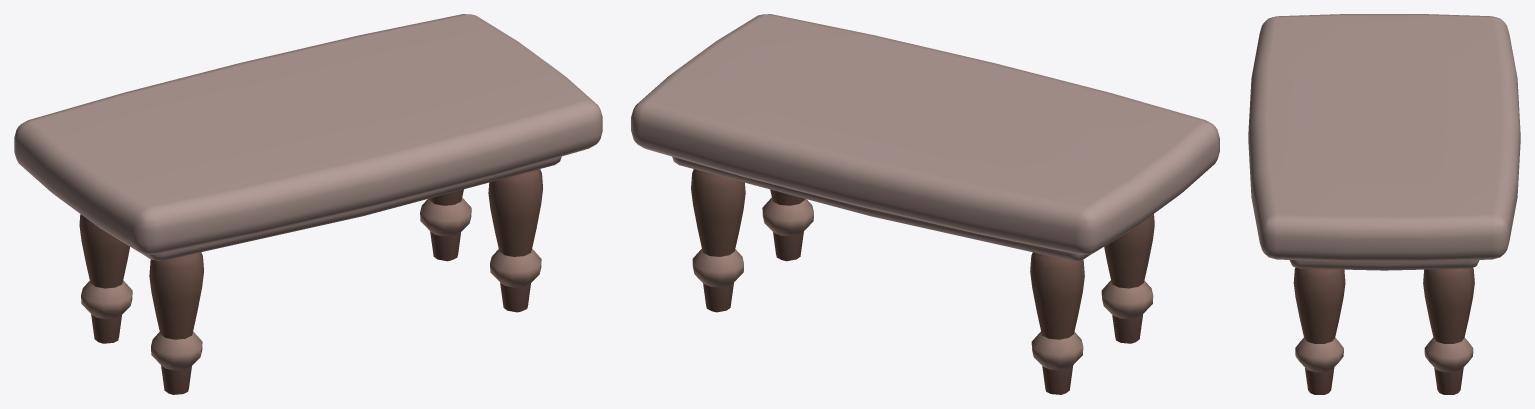
File: Coffee_Table_09.glb
3 views of the same model, side by side, from view 1: azimuth 30°, elevation 25°; view 2: azimuth 150°, elevation 25°; view 3: azimuth 270°, elevation 25° (orthographic). The views are drawn at different scales.
Parts seen in each view (by area): view 1: Coffee_Table_09; view 2: Coffee_Table_09; view 3: Coffee_Table_09.
Boxes of the visible parts, box(x1,y1,x2,y2) form: Coffee_Table_09: box(14, 14, 602, 394); Coffee_Table_09: box(631, 14, 1219, 394); Coffee_Table_09: box(1248, 14, 1520, 394).
Bounding box in the file's own units: 1.19 × 0.5084 × 0.632.
Materials: 1 (1 with a texture image).
